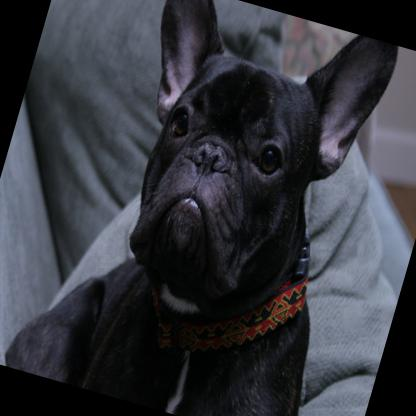French_bulldog: (2, 0, 408, 416)
